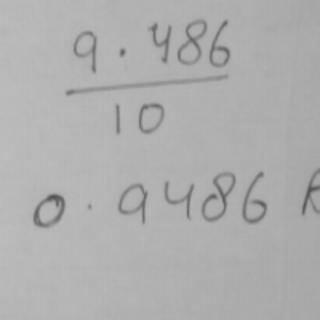.: (115, 42, 132, 60), (83, 200, 98, 212)
0: (30, 190, 68, 228), (133, 102, 169, 139)
1: (114, 99, 123, 137)
4: (162, 180, 199, 222), (151, 22, 169, 61)
6: (242, 169, 269, 223), (207, 17, 229, 67)
8: (176, 16, 210, 65), (203, 172, 234, 224)
9: (117, 181, 152, 225), (72, 30, 99, 75)
